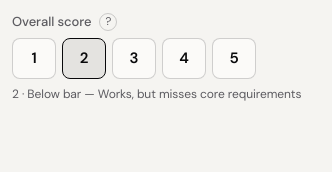
the anchor line › reverts to the selected value when the pointer leaves
Hover over the radio button named "5 — Exceptional" at (234, 59), box [212,38,256,79]
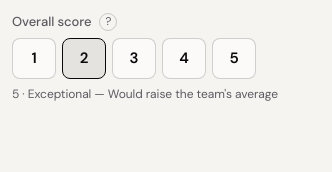
Move the pointer off the element showing "1 2 3 4 5", box [12,38,256,79]
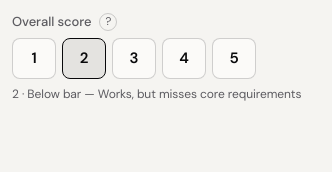
Check: the message reads "2 · Below bar — Works, but misses core requirements", box [12,86,301,102]
